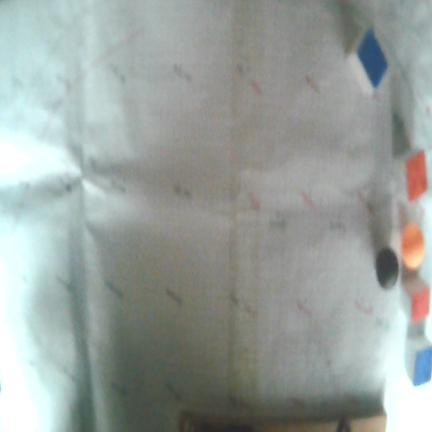circle_blue: (375, 247, 399, 288)
circle_orange: (402, 223, 425, 269)
rectangle_blue: (358, 23, 389, 89)
rectangle_orange: (411, 288, 429, 321)
square_blue: (414, 346, 432, 386)
square_orange: (407, 150, 427, 201)
